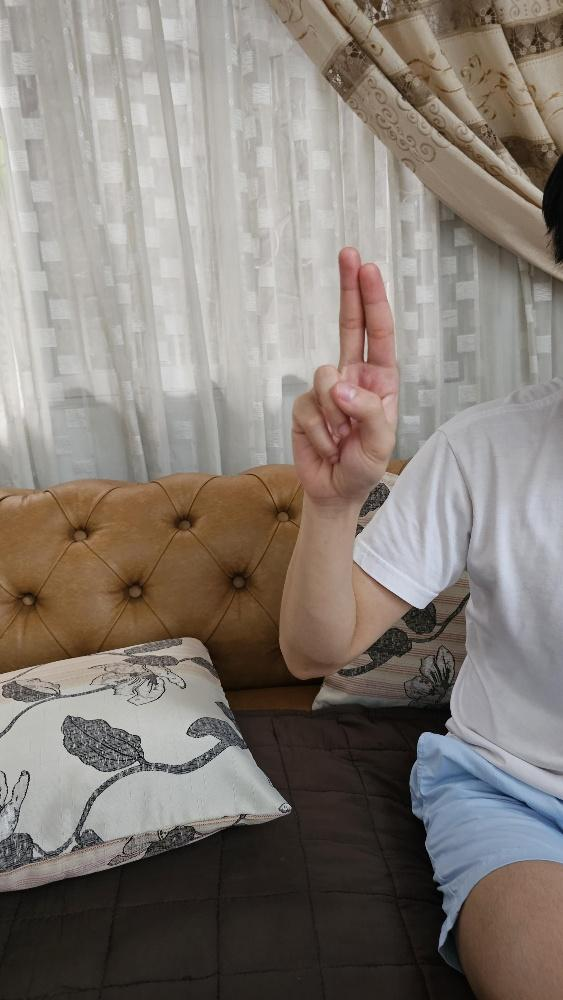u: (290, 244, 401, 505)
